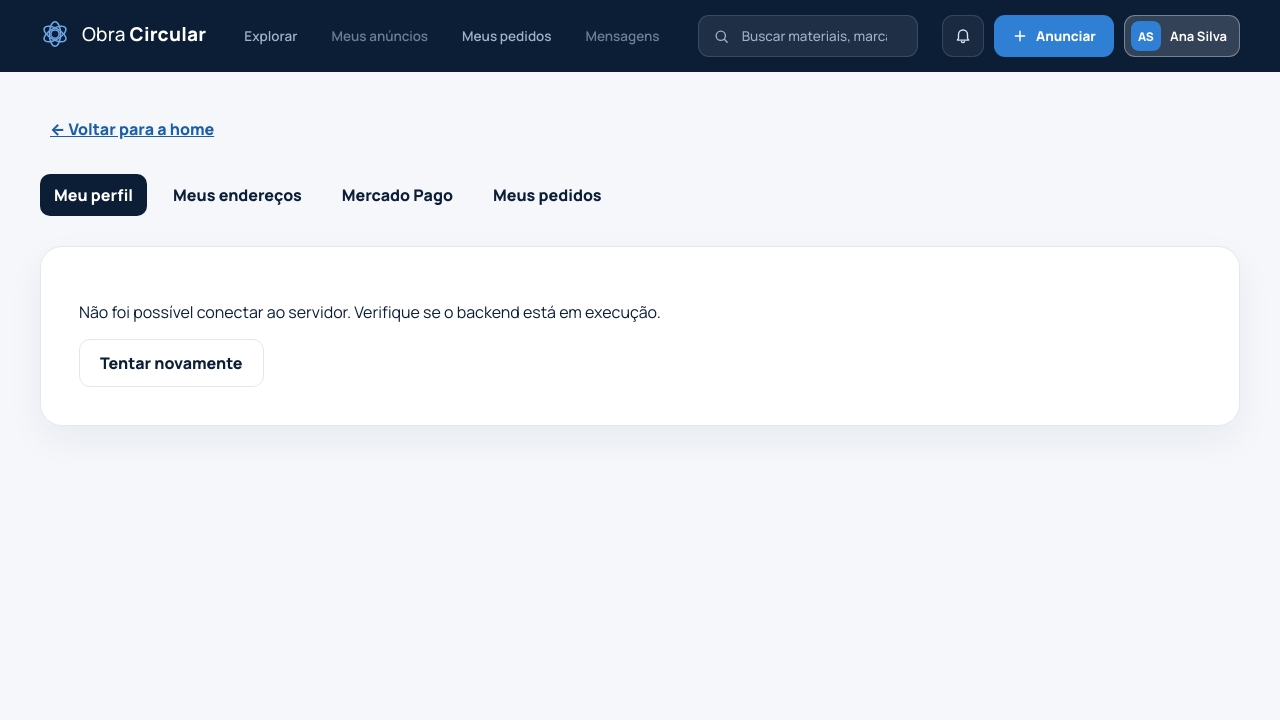
Test case: permite tentar novamente quando o carregamento falha
Click the button "Tentar novamente" at (171, 363), box x1=79 y1=339 x2=264 y2=387
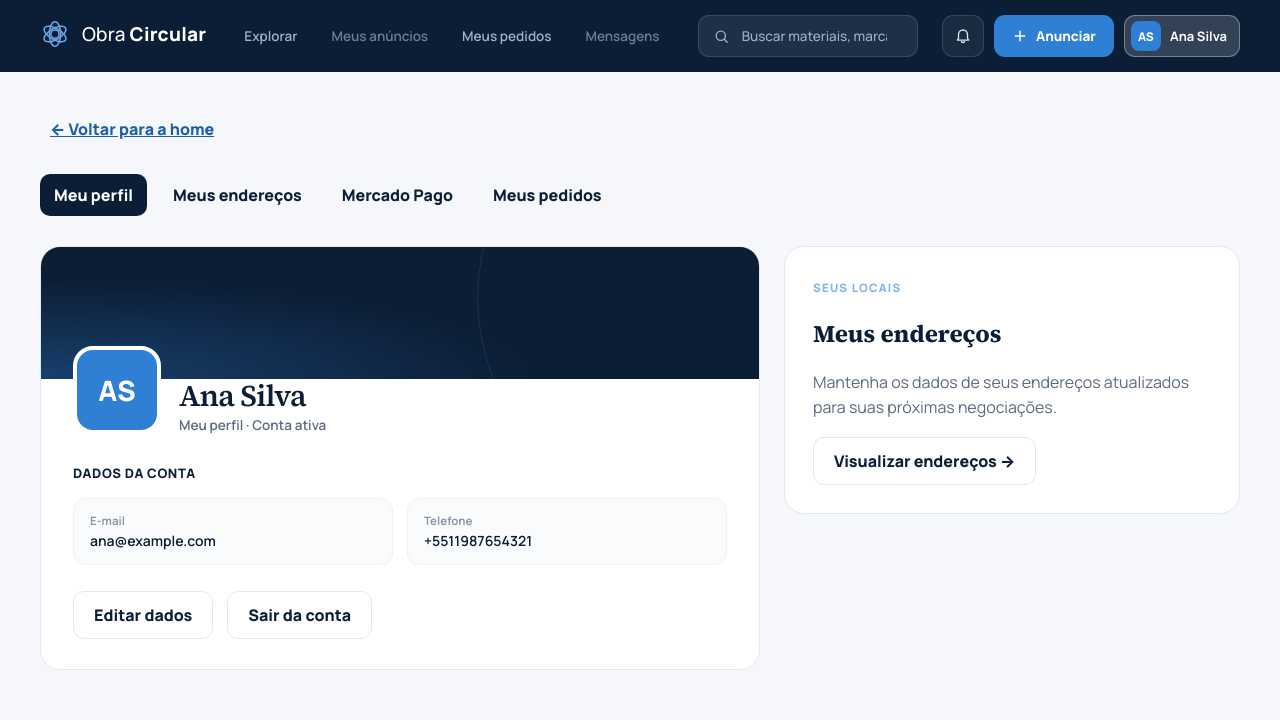
Check: the heading "Ana Silva" is shown, box x1=179 y1=379 x2=326 y2=412
